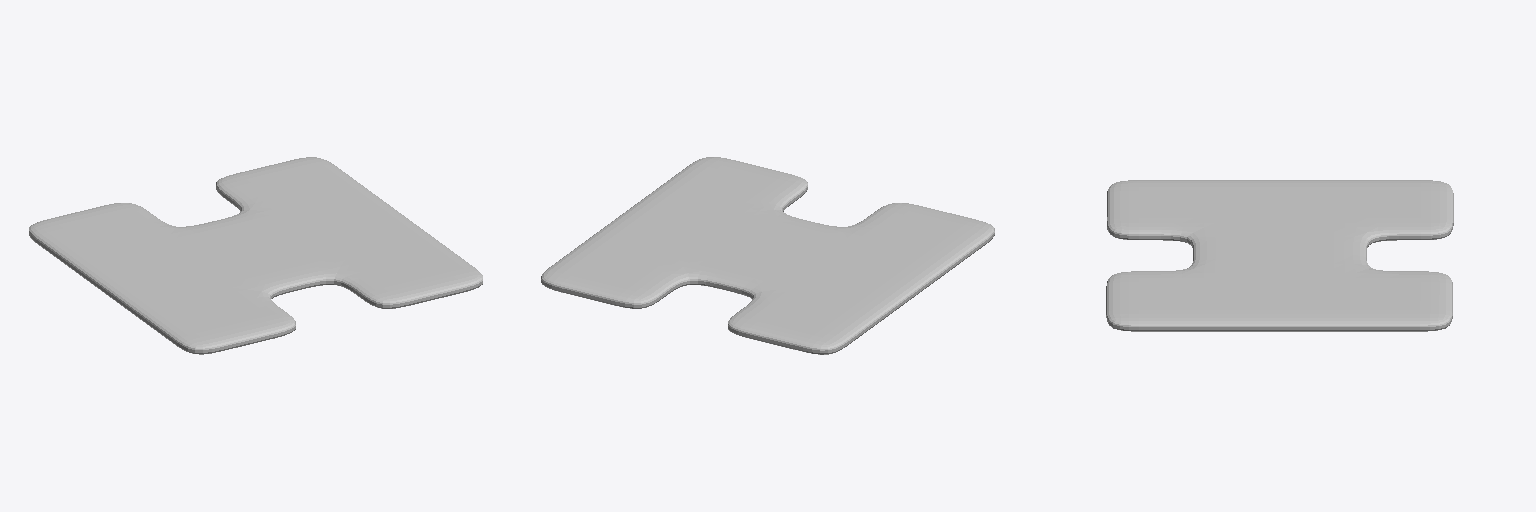
File: GoldenPuzzle-22-OFOF.obj
3 views of the same model, side by side, from view 1: azimuth 30°, elevation 25°; view 2: azimuth 150°, elevation 25°; view 3: azimuth 270°, elevation 25° (orthographic).
Parts seen in each view (by area): view 1: Puzzle.022; view 2: Puzzle.022; view 3: Puzzle.022.
Boxes of the visible parts, x1=… form: Puzzle.022: x1=29, y1=157, x2=482, y2=354; Puzzle.022: x1=541, y1=157, x2=994, y2=354; Puzzle.022: x1=1106, y1=180, x2=1453, y2=331.
Bounding box in the file's own units: 0.25 × 0.0092 × 0.2514.